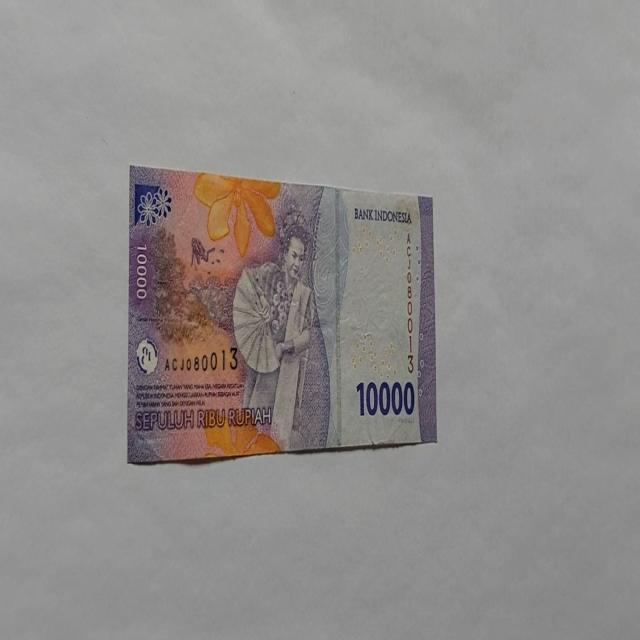sepuluh ribu rupiah: (126, 163, 438, 464)
